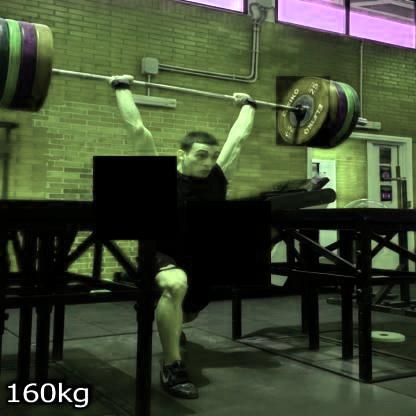barbell: (277, 77, 332, 147)
